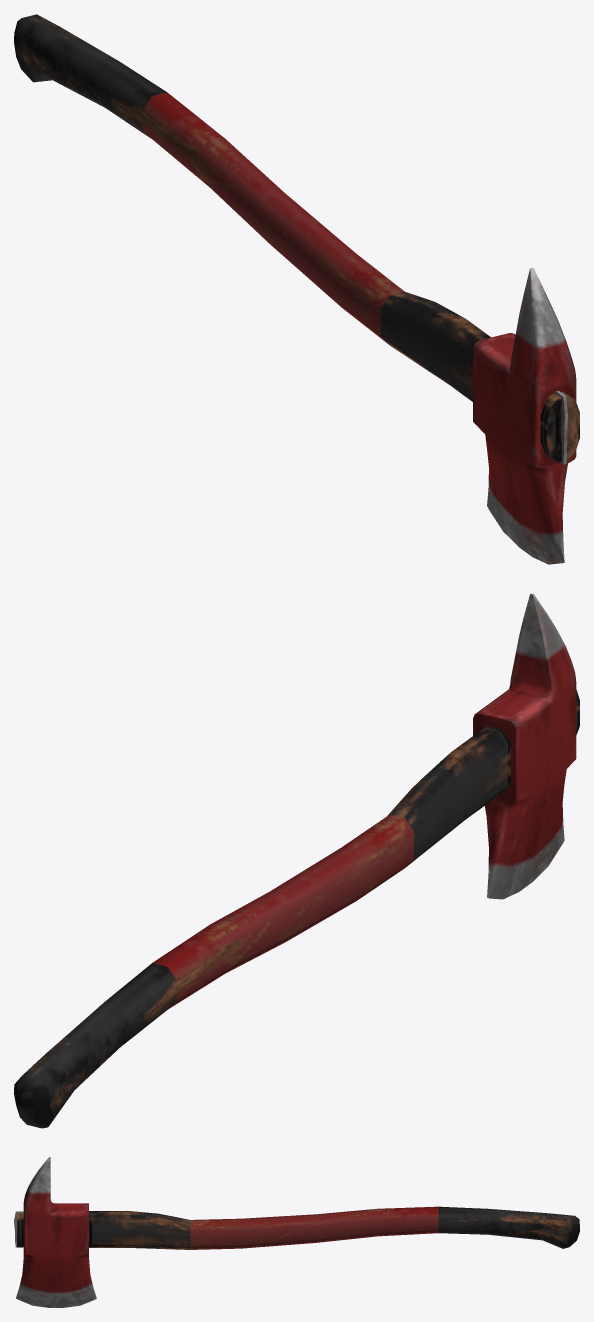
The model's file is HH_Fire_Axe.fbx.
3 renders of one model, top to bottom at view 1: azimuth 30°, elevation 25°; view 2: azimuth 150°, elevation 25°; view 3: azimuth 270°, elevation 25°, orthographic. The views are drawn at different scales.
Parts seen in each view (by area): view 1: HH_Fire_Axe_LOD0; view 2: HH_Fire_Axe_LOD0; view 3: HH_Fire_Axe_LOD0.
Boxes of the visible parts, left/top/right/bottom form: HH_Fire_Axe_LOD0: left=14, top=14, right=579, bottom=564; HH_Fire_Axe_LOD0: left=14, top=593, right=579, bottom=1128; HH_Fire_Axe_LOD0: left=14, top=1157, right=579, bottom=1307.
Size of what is drawn, in the model's own units: 4.26 by 27.28 by 92.91.
